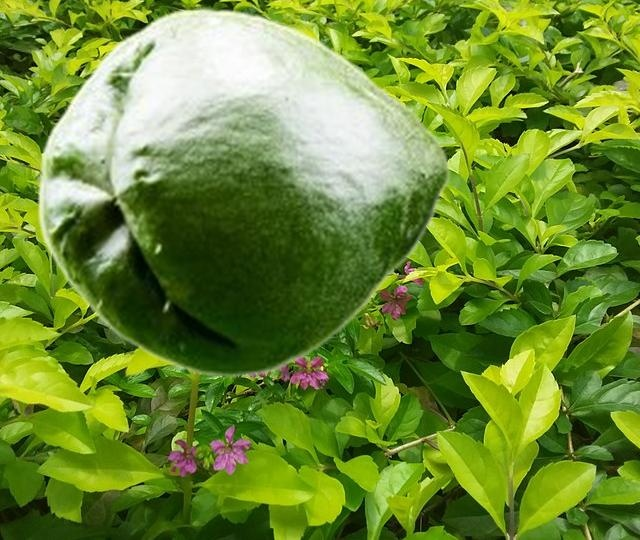sayote: (36, 7, 450, 377)
